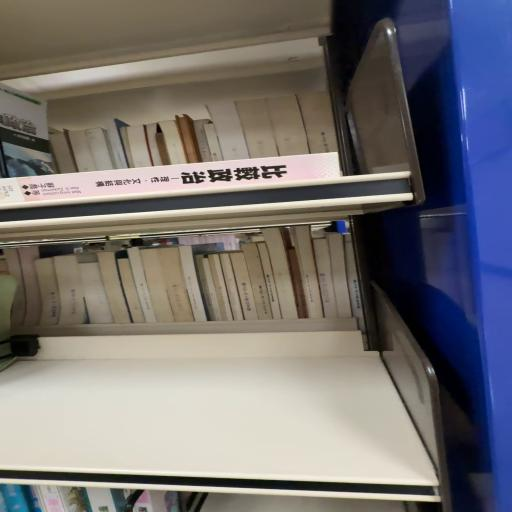flat: (1, 154, 340, 209)
